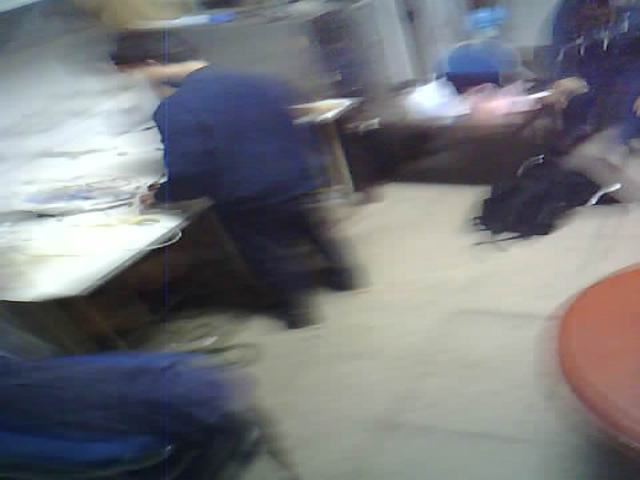person: (91, 19, 386, 333), (515, 0, 640, 179)
